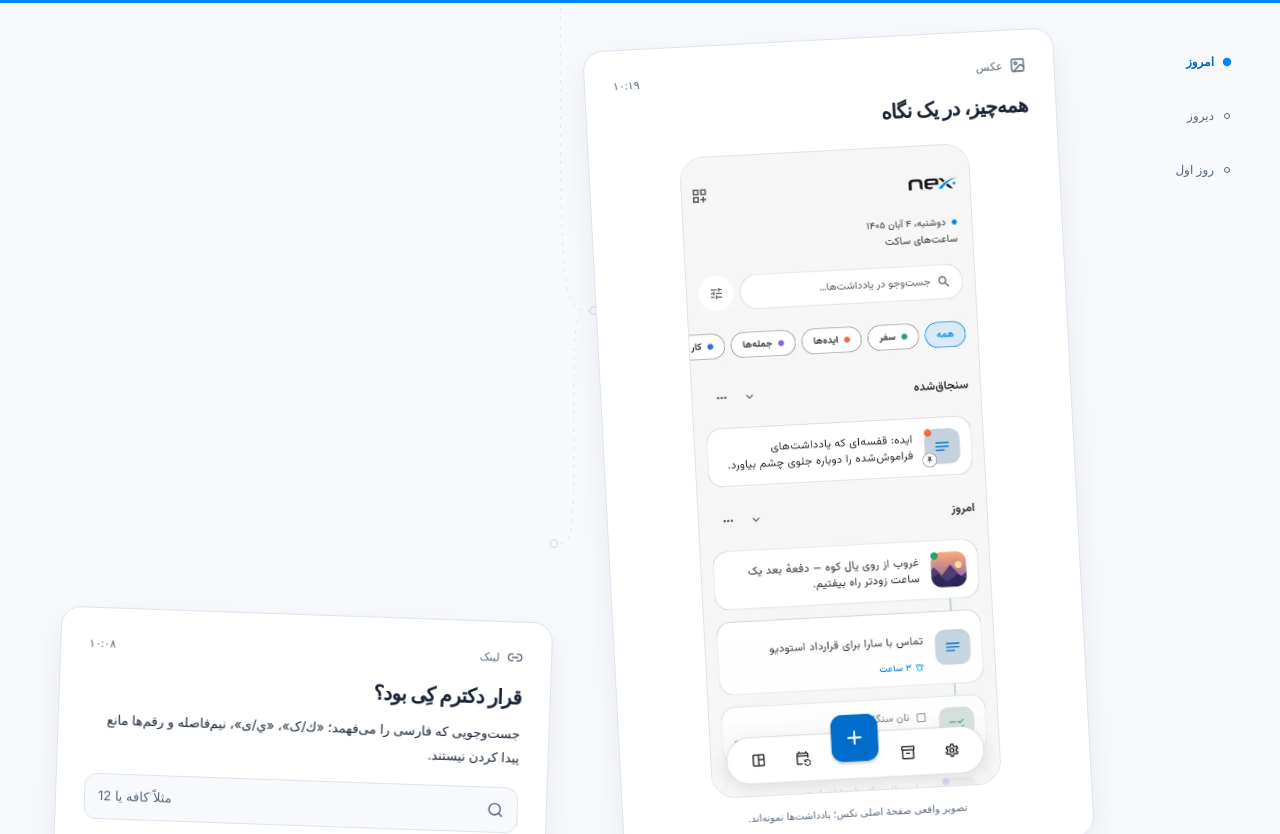
it: Nex world interactions › demonstrates Persian normalisation locally, without treating the app demo as a real search service
This screenshot has width=1280, height=834.
(page scrolled)
Type "كافه 12" into the search field.
click(288, 803); type("كافه 12")  # box [98,784,479,821]
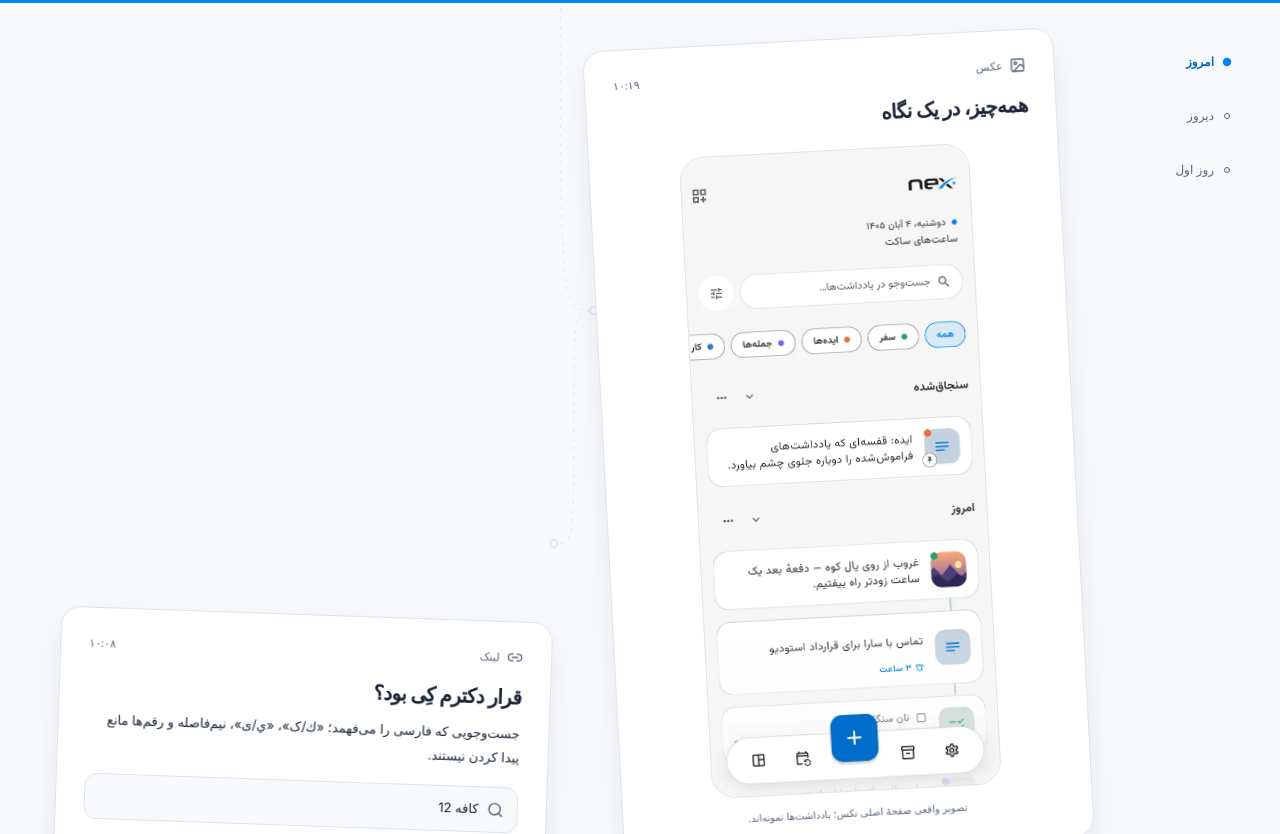
Replace the text in the search field with "unrelated" at (288, 803), box [98,784,479,821]
(page scrolled)
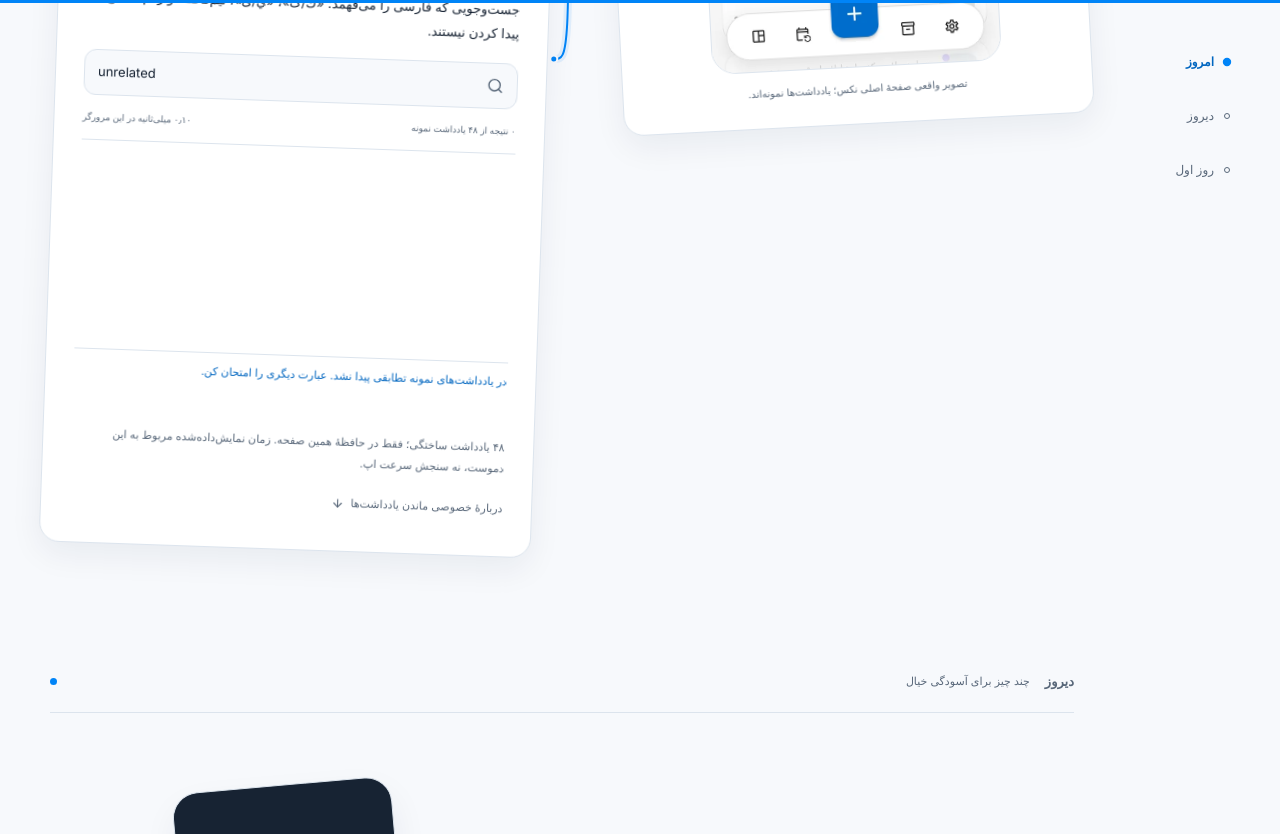
Expected: the text "۴۸ یادداشت ساختگی؛ فقط در حافظهٔ همین صفحه. زمان نمایش‌داده‌شده مربوط به این دموست، نه سنجش سرعت اپ." is shown, [112,426,505,475]
Expected: the text "در یادداشت‌های نمونه تطابقی پیدا نشد. عبارت دیگری را امتحان کن." is shown, [201,364,507,388]
